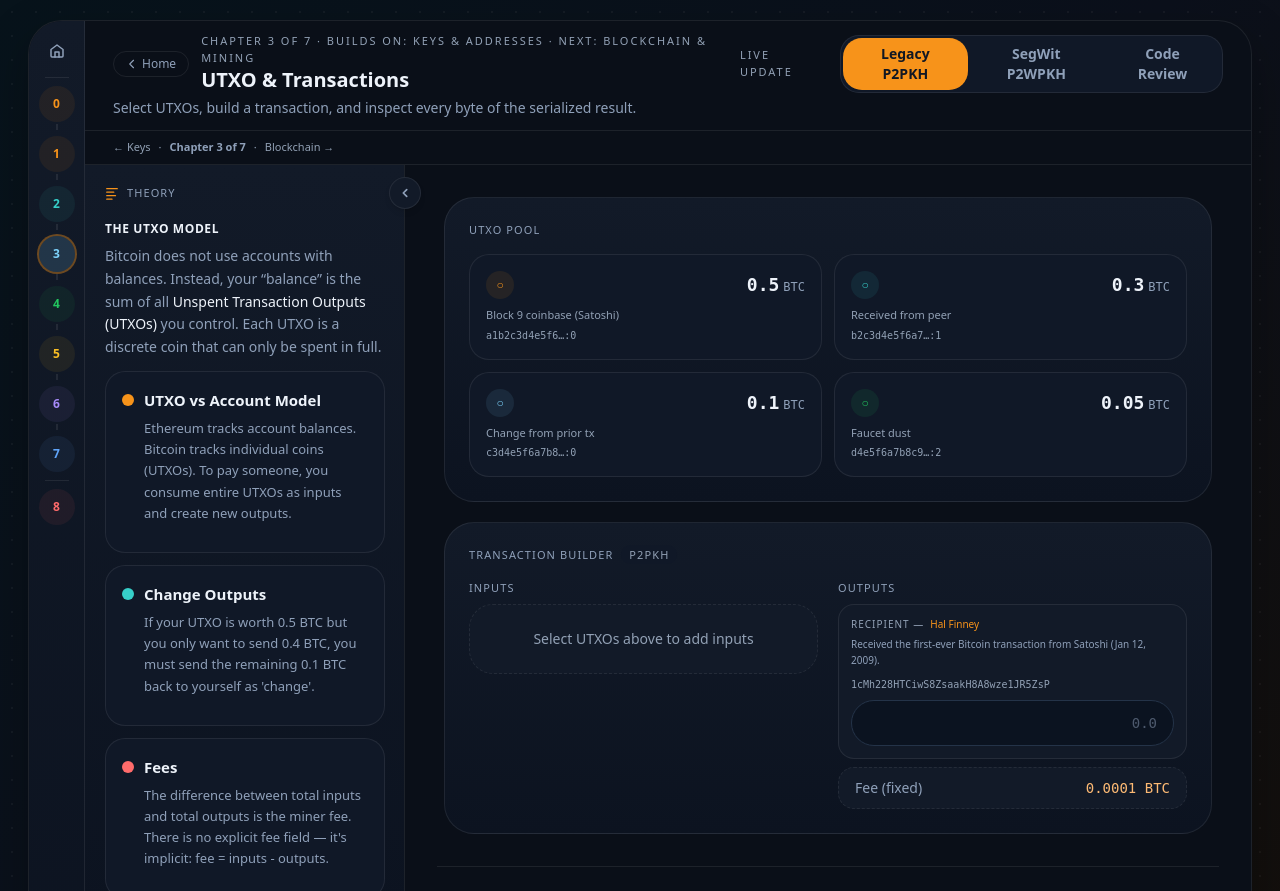
Test: UTXOBuilder › AC: selecting UTXOs updates total inputs in real time
This screenshot has width=1280, height=891.
Click the first UTXO (0.5 BTC)
Step 1. Click the checkbox named "0.5 BTC" → x=763, y=284, box [469,254,822,360]
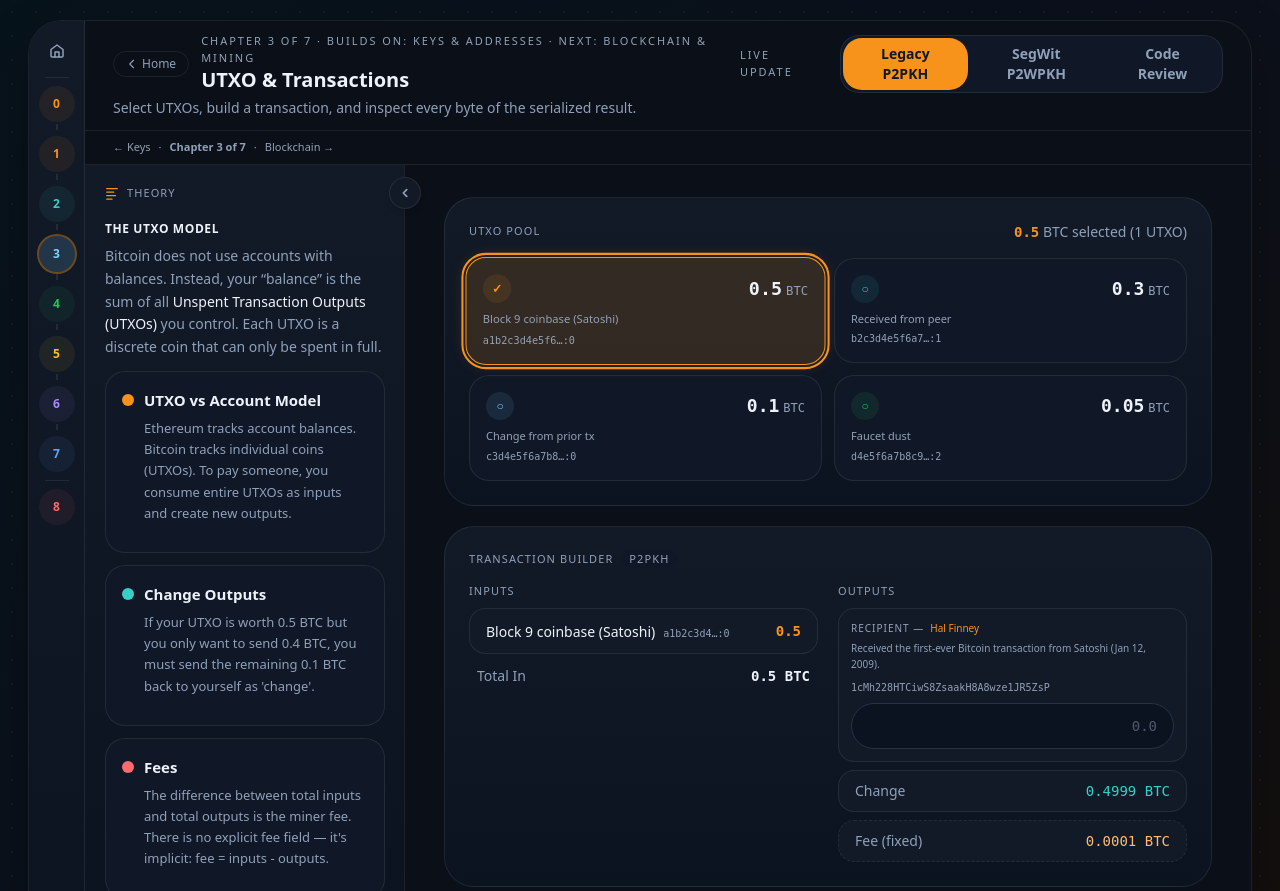
Click the second UTXO (0.3 BTC)
Step 2. Click the checkbox named "0.3 BTC" → x=1128, y=288, box [834,258,1187,363]
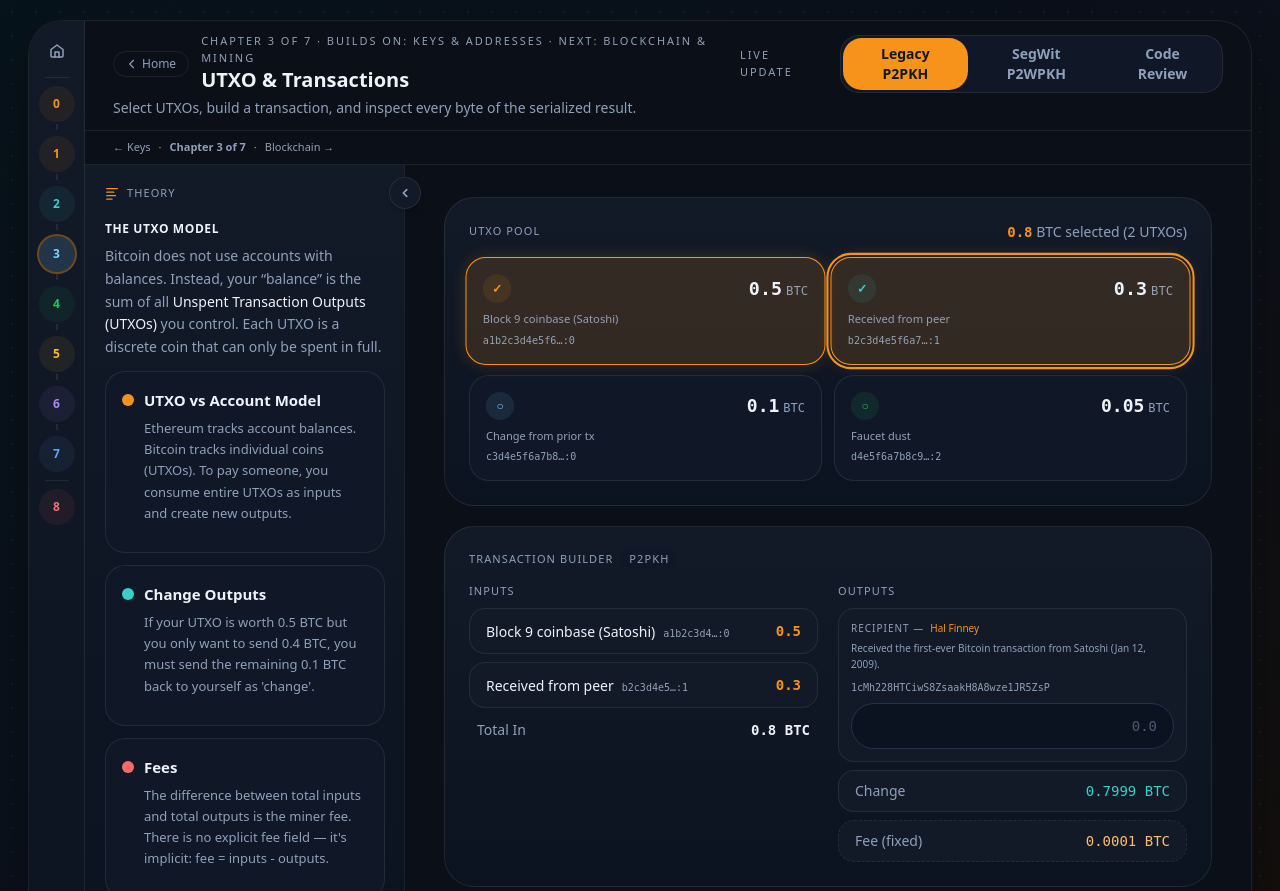
Result: the text "0.8" is shown at [1007,224,1033,240]
